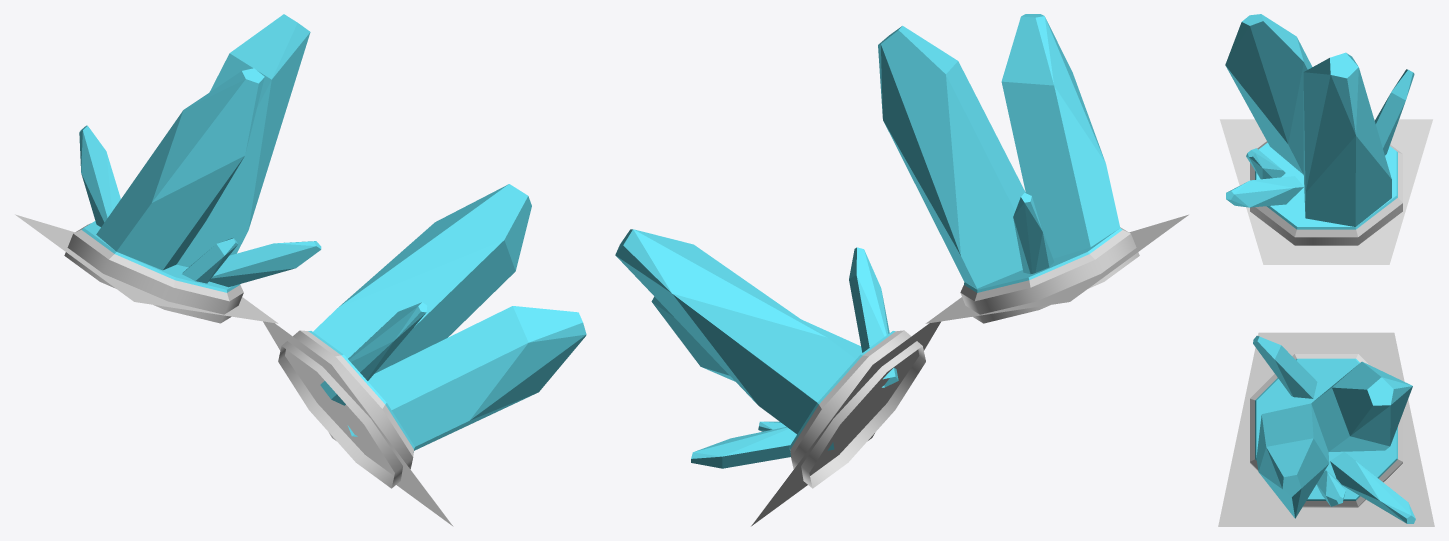
The model's file is Mod_Pauldron_L_Brains2.fbx.
3 renders of one model, left to right at view 1: azimuth 30°, elevation 25°; view 2: azimuth 150°, elevation 25°; view 3: azimuth 270°, elevation 25°, orthographic. The views are drawn at different scales.
Parts seen in each view (by area): view 1: Mod_Pauldron_L_Brains2; view 2: Mod_Pauldron_L_Brains2; view 3: Mod_Pauldron_L_Brains2.
Boxes of the visible parts, bbox=[...] form: Mod_Pauldron_L_Brains2: bbox=[15, 14, 586, 526]; Mod_Pauldron_L_Brains2: bbox=[615, 14, 1188, 526]; Mod_Pauldron_L_Brains2: bbox=[1218, 14, 1434, 526].
Bounding box in the file's own units: 337 × 317 × 144.
